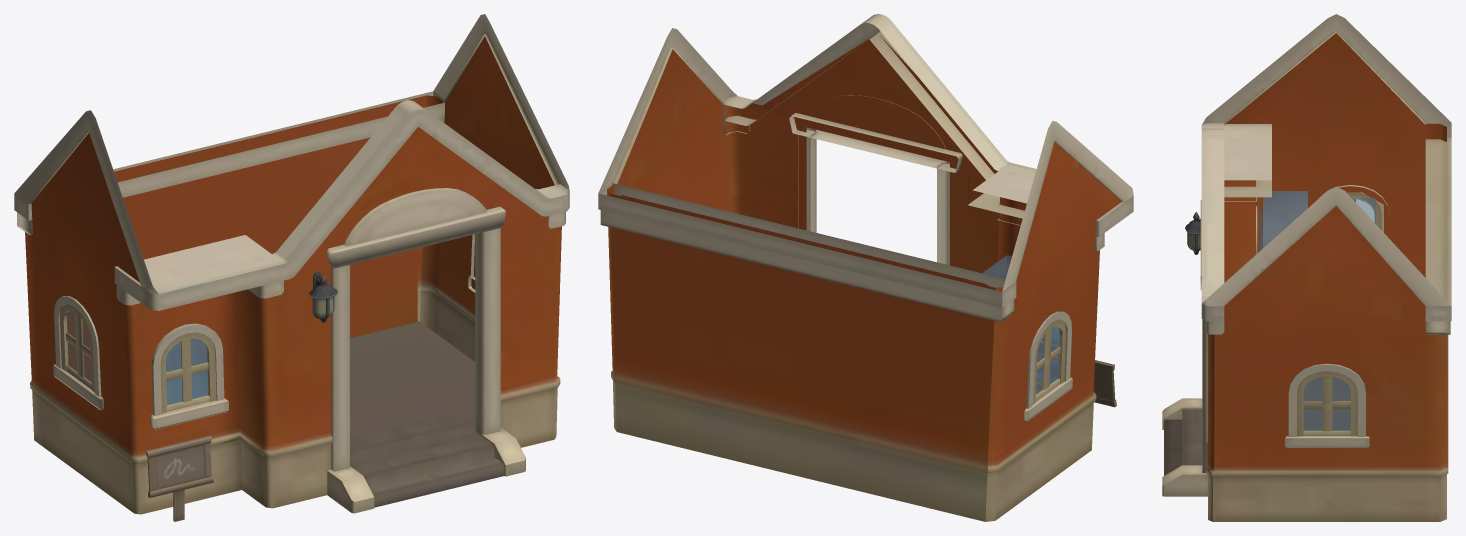
The model's file is wall-na-stucco.glb.
3 views of the same model, side by side, from view 1: azimuth 30°, elevation 25°; view 2: azimuth 150°, elevation 25°; view 3: azimuth 270°, elevation 25° (orthographic). The views are drawn at different scales.
Bounding box in the file's own units: 38.33 × 32.59 × 25.58.
Materials: 7 (3 with a texture image).
